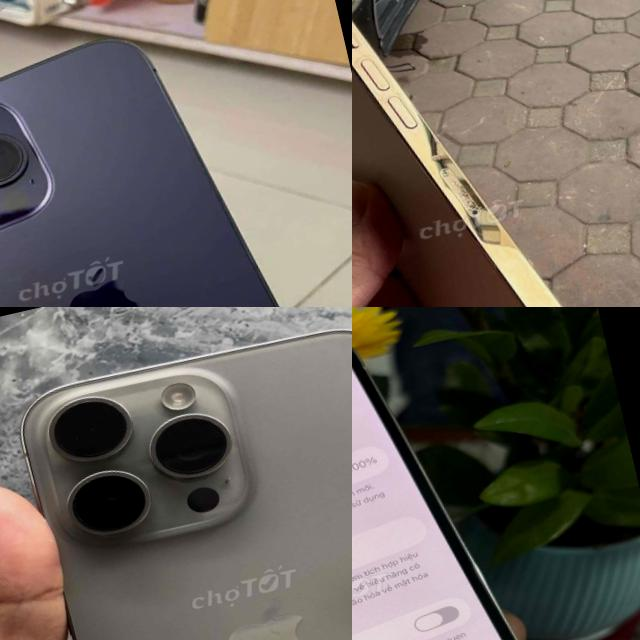gen_12_13: (352, 0, 640, 307), (352, 307, 584, 640)
gen_14: (0, 0, 352, 307)
gen_15: (0, 307, 352, 640)
